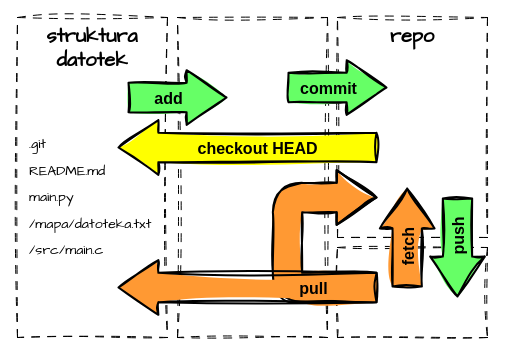
Image size: 505x355. Some labels were removed from this diagram. The shapes that lost their labels are listed below. From the top down, each one's centre as x and y in pixels, then its label:
point (252, 177): staging
point (412, 292): remote repo
